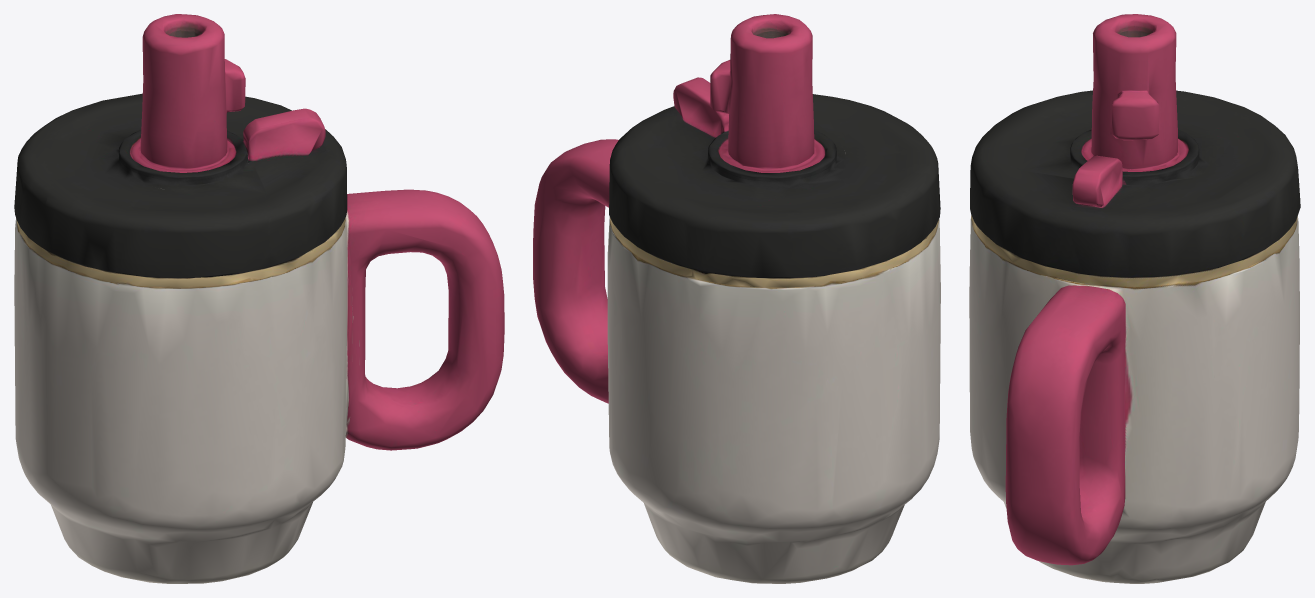
Rendered from cup.glb.
3 renders of one model, left to right at view 1: azimuth 30°, elevation 25°; view 2: azimuth 150°, elevation 25°; view 3: azimuth 270°, elevation 25°, orthographic.
Visible parts, largest first — view 1: tripo_node_4a66af5c-a408-4abd-951e-a60e8aad22e8; view 2: tripo_node_4a66af5c-a408-4abd-951e-a60e8aad22e8; view 3: tripo_node_4a66af5c-a408-4abd-951e-a60e8aad22e8.
Part boxes in pixels (left/top/right/bottom): tripo_node_4a66af5c-a408-4abd-951e-a60e8aad22e8: left=14, top=14, right=504, bottom=583; tripo_node_4a66af5c-a408-4abd-951e-a60e8aad22e8: left=533, top=14, right=940, bottom=583; tripo_node_4a66af5c-a408-4abd-951e-a60e8aad22e8: left=969, top=14, right=1300, bottom=583.
Size of the model in its own units: 0.8464 by 0.9799 by 0.575.
1 material, 1 textured.
